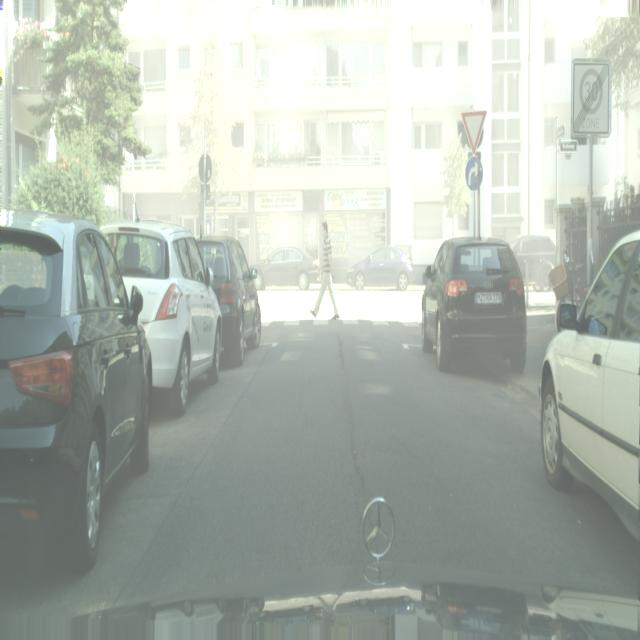car: (545, 249, 584, 329)
person: (310, 222, 342, 321)
truck: (0, 212, 152, 572), (539, 228, 640, 543), (99, 218, 223, 415), (421, 237, 527, 376), (195, 236, 262, 368), (250, 246, 322, 291), (346, 246, 413, 292), (511, 234, 557, 289)
